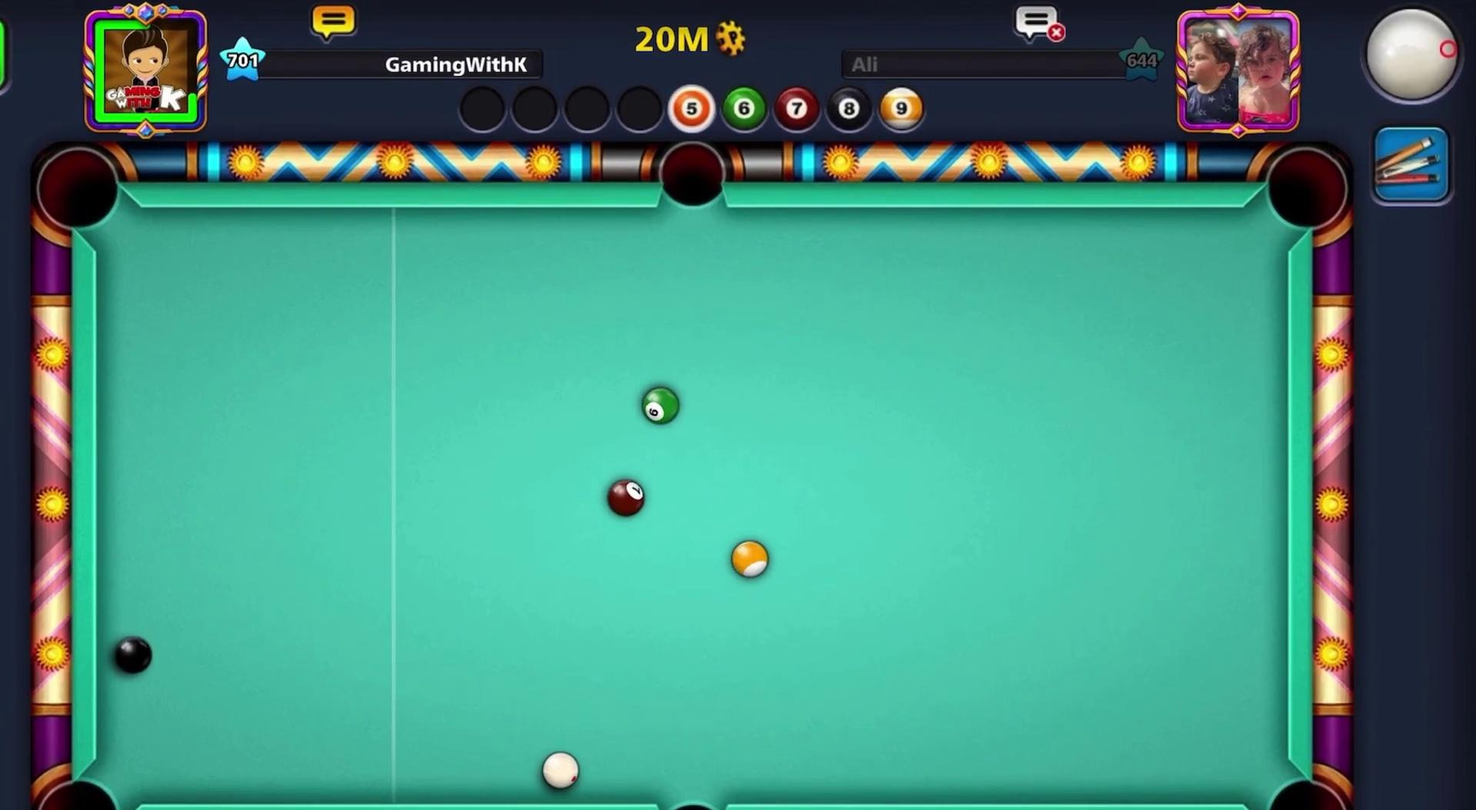Ball: (601, 474, 651, 523), (636, 378, 683, 429), (106, 632, 156, 678), (729, 536, 772, 585)
Hole: (23, 136, 133, 244), (1256, 138, 1358, 243), (651, 134, 736, 218), (1248, 755, 1357, 809), (28, 754, 135, 809), (645, 785, 739, 809)
Play_Area: (98, 204, 1288, 802)
Spin: (1337, 0, 1475, 121)
White: (528, 748, 585, 795)
